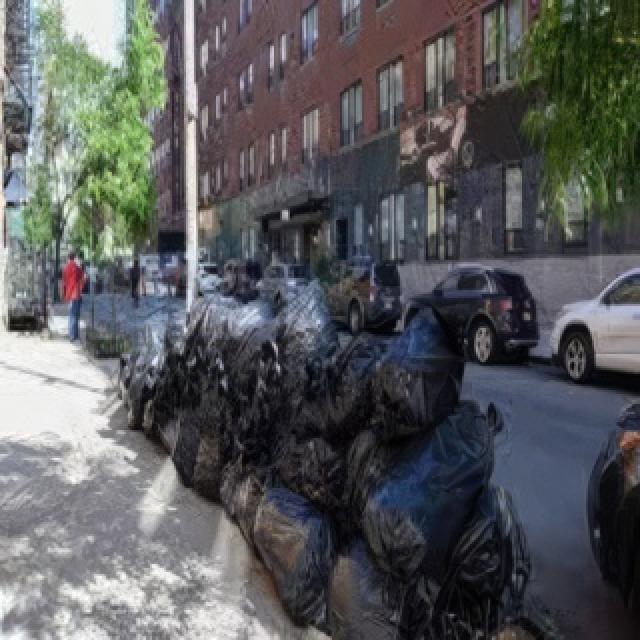Trashbag: (357, 412, 538, 622), (134, 352, 284, 523), (251, 490, 403, 640), (300, 340, 385, 511), (369, 310, 473, 438), (266, 289, 344, 403), (107, 324, 171, 417), (224, 298, 278, 393), (184, 289, 236, 380)
